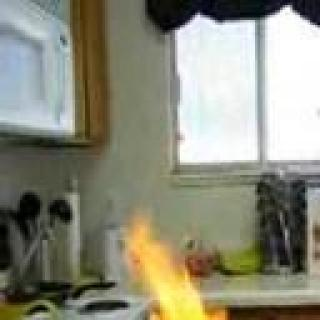fire: (123, 223, 276, 320)
